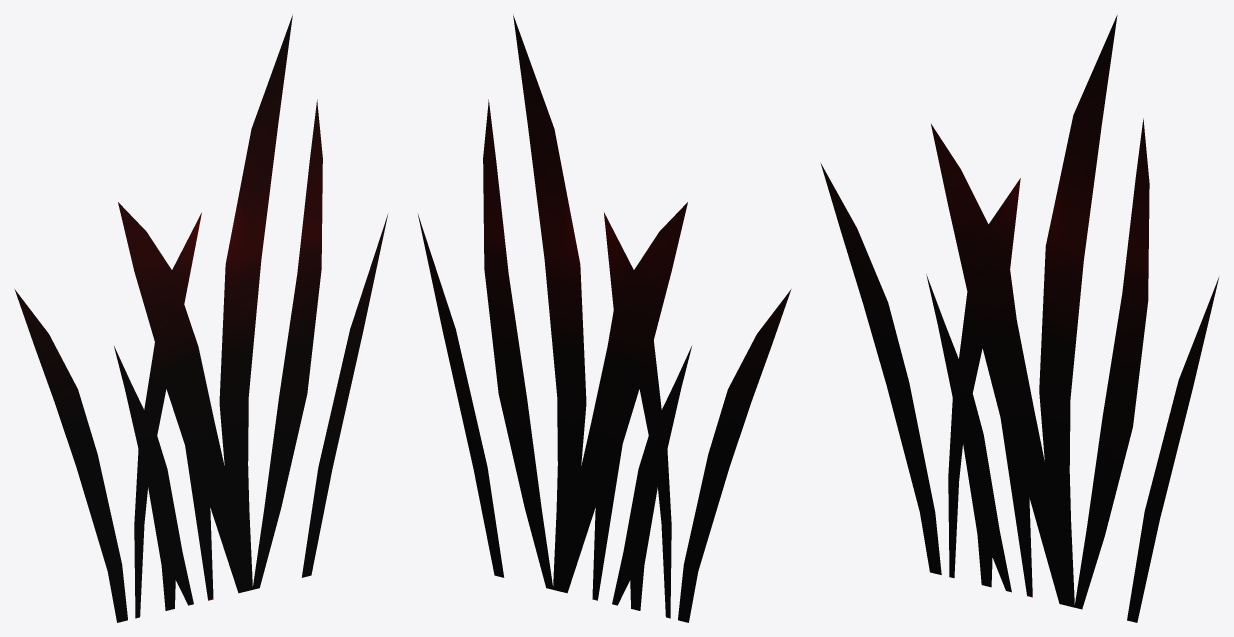
Rendered from X3_cao_003.FBX.
The picture shows the model from 3 angles, left to right: view 1: azimuth 30°, elevation 25°; view 2: azimuth 150°, elevation 25°; view 3: azimuth 330°, elevation 25°; orthographic projection. The views are drawn at different scales.
Visible parts, largest first — view 1: X3_cao_003; view 2: X3_cao_003; view 3: X3_cao_003.
Part boxes in pixels (bbox=[...]): X3_cao_003: bbox=[14, 14, 388, 622]; X3_cao_003: bbox=[417, 14, 791, 622]; X3_cao_003: bbox=[820, 15, 1218, 622].
Bounding box in the file's own units: 181 × 262 × 4.51.
